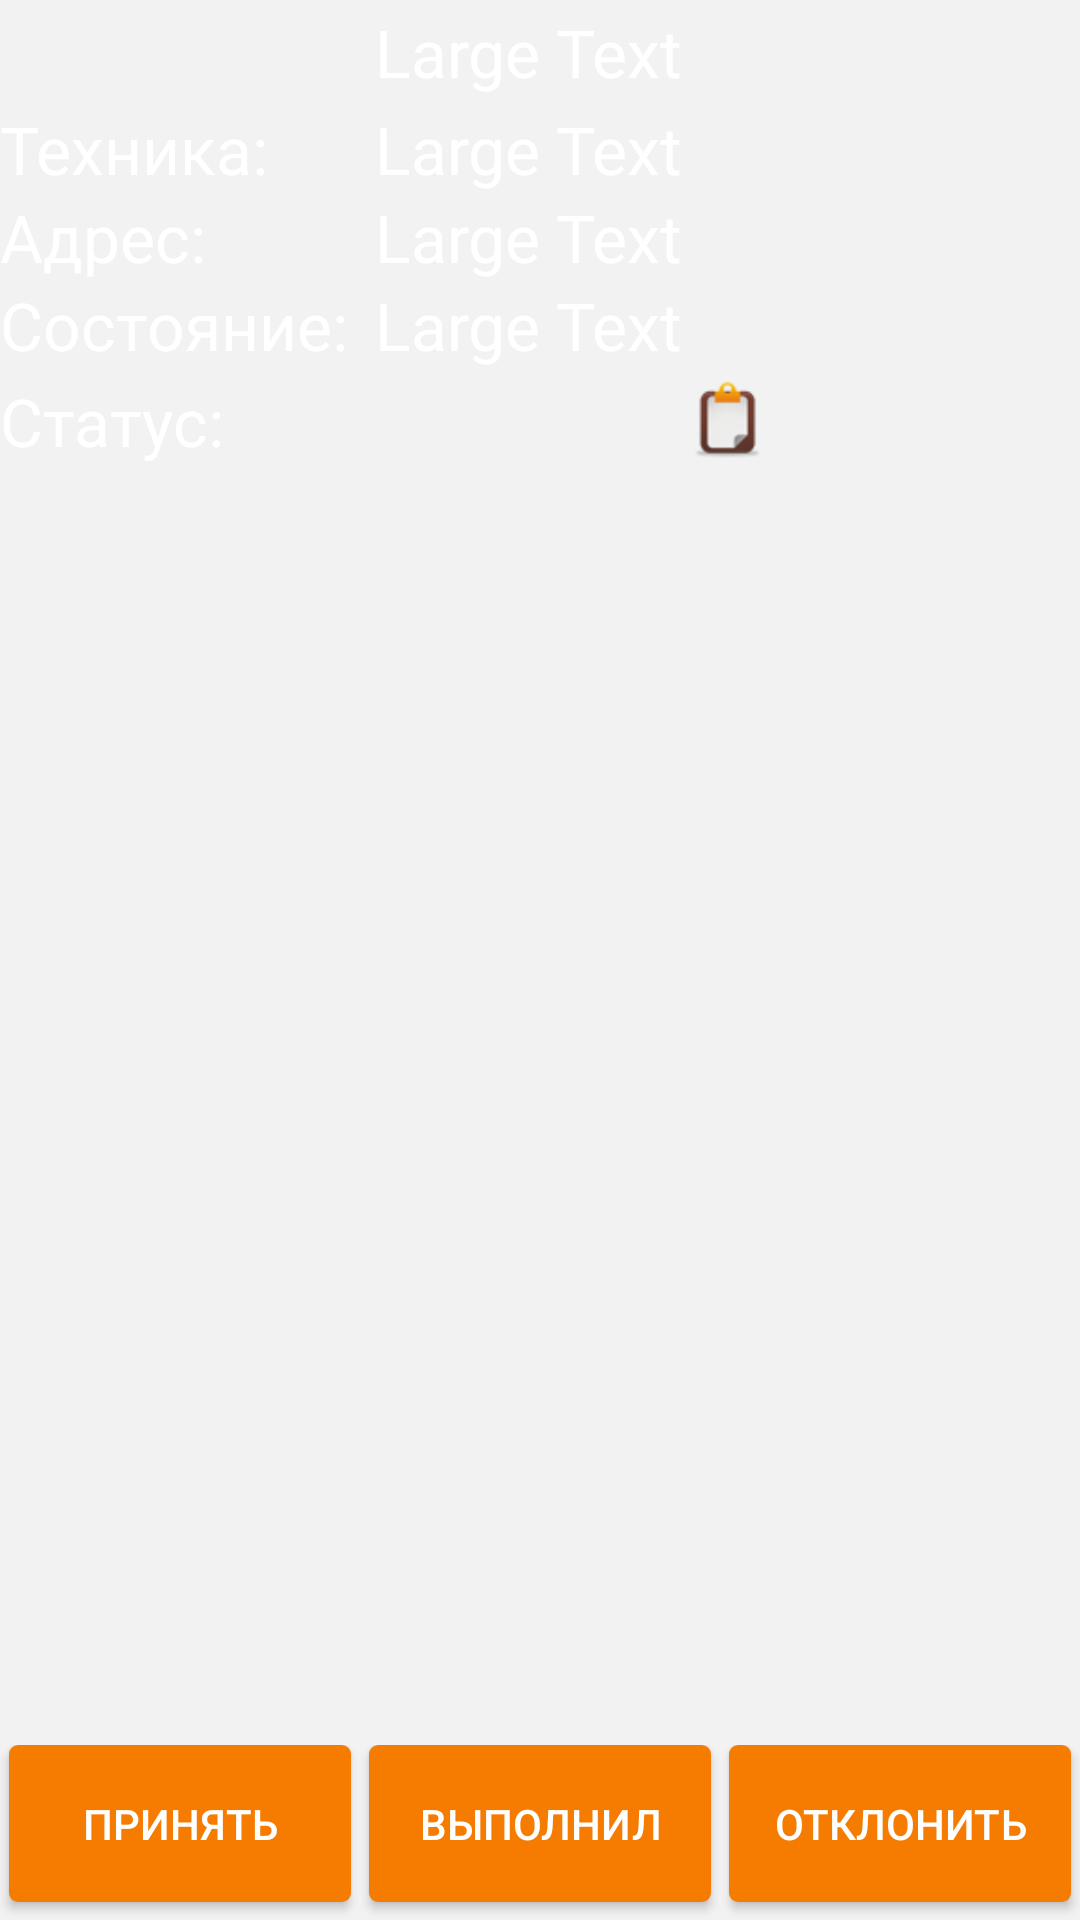

Icons on this 1080w x 1920h Android screen, each with the point to tap as (x=x, y=y):
open order: (x=727, y=418)
